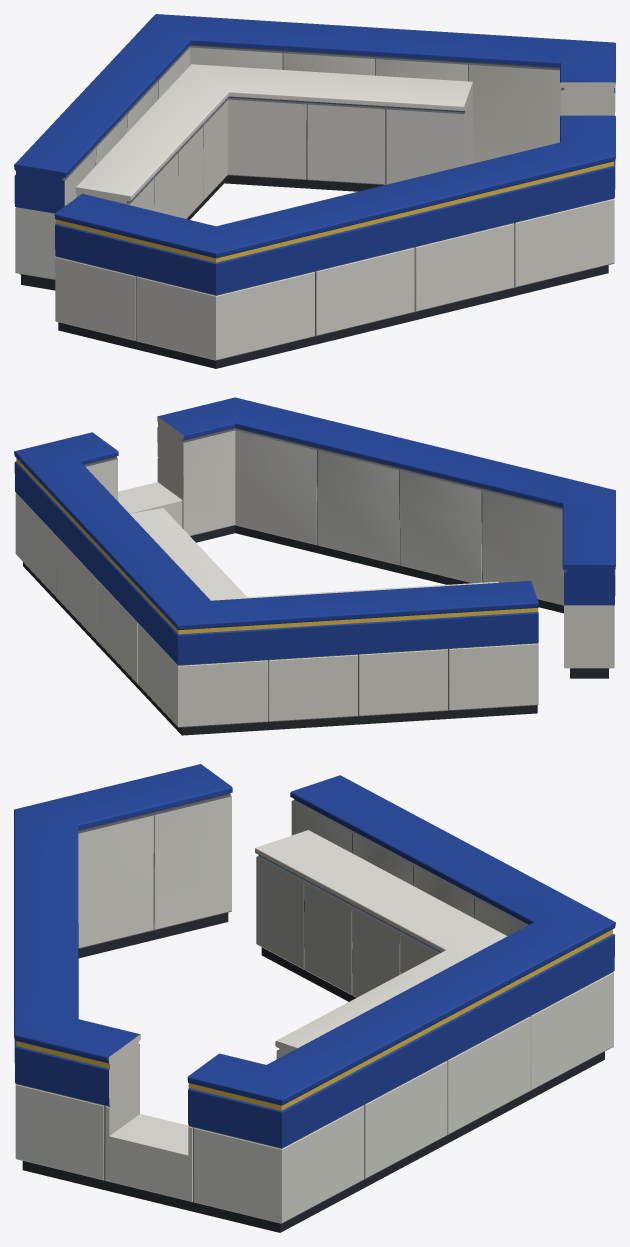
File: checkout-counter-shield-laminate.glb
The picture shows the model from 3 angles, top to bottom: view 1: azimuth 30°, elevation 25°; view 2: azimuth 150°, elevation 25°; view 3: azimuth 270°, elevation 25°; orthographic projection. The views are drawn at different scales.
Visible parts, largest first — view 1: shield-surround-0, shield-work-cabinet; view 2: shield-surround-0, shield-work-cabinet; view 3: shield-surround-0, shield-work-cabinet.
Boxes of the visible parts, <box> form: shield-surround-0: <box>14,14,615,368</box>; shield-work-cabinet: <box>75,64,472,219</box>; shield-surround-0: <box>14,397,615,735</box>; shield-work-cabinet: <box>129,508,498,600</box>; shield-surround-0: <box>14,764,615,1232</box>; shield-work-cabinet: <box>255,830,507,1058</box>.
Bounding box in the file's own units: 18.5 × 3.54 × 14.
